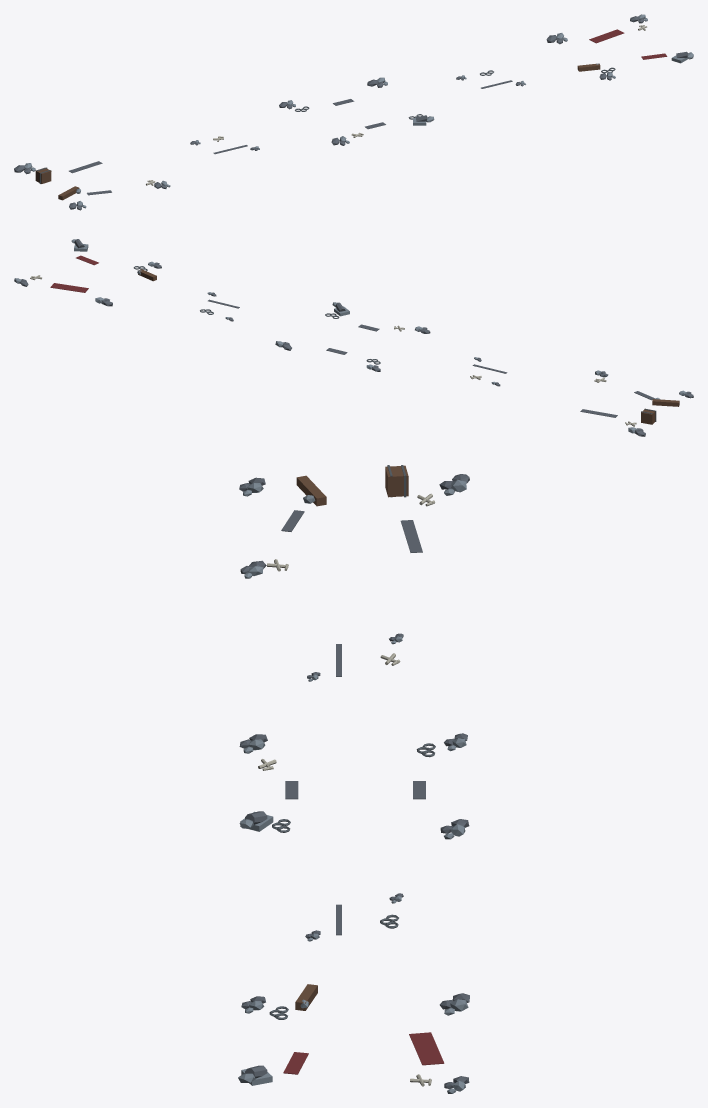
The model's file is interior_dressing_v1.glb.
The picture shows the model from 3 angles, top to bottom: view 1: azimuth 30°, elevation 25°; view 2: azimuth 150°, elevation 25°; view 3: azimuth 270°, elevation 25°; orthographic projection. The views are drawn at different scales.
Bounding box in the file's own units: 46.84 × 0.8072 × 7.47.
